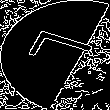L_SE: (14, 31, 96, 79)
